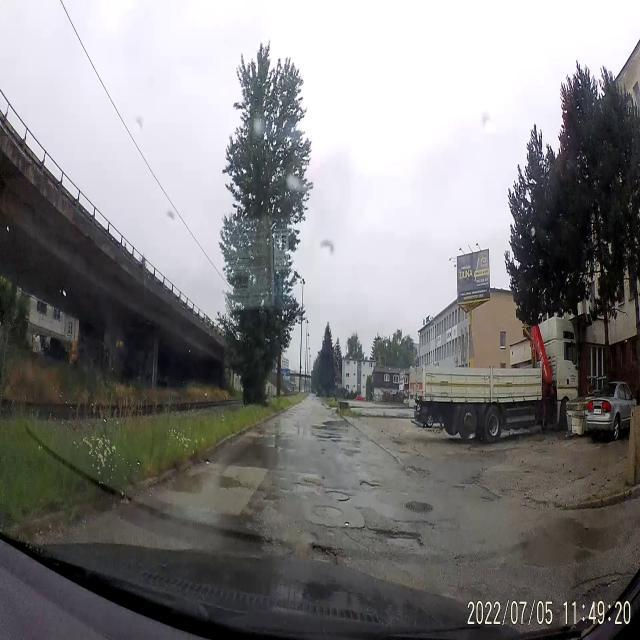Manhole: (310, 503, 344, 523), (322, 486, 354, 504), (400, 498, 436, 514)
Pothole: (364, 523, 426, 553), (303, 534, 342, 564), (292, 477, 322, 495), (402, 466, 432, 478), (360, 481, 380, 494), (450, 482, 466, 494), (478, 492, 494, 504)
